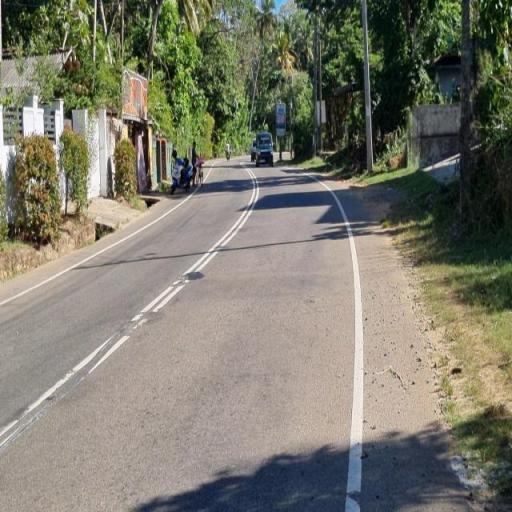double_white_line: (130, 168, 260, 330)
